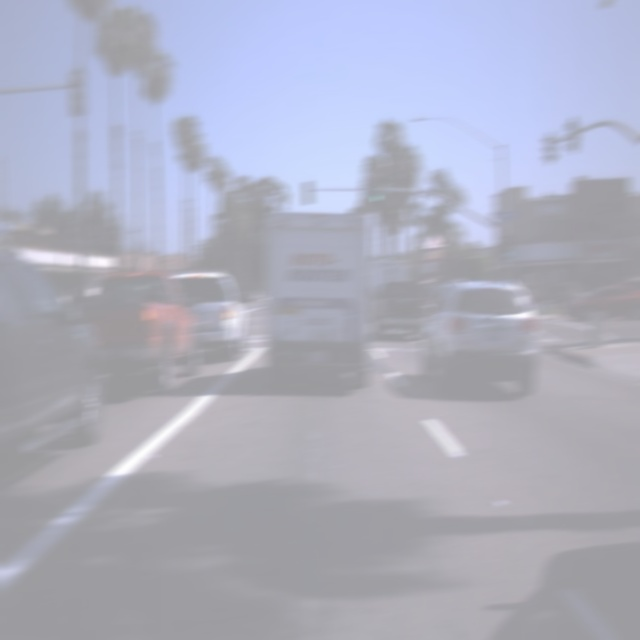go: (500, 230, 516, 260), (372, 179, 382, 203)
go traffic light: (500, 230, 516, 260), (372, 179, 382, 203)
